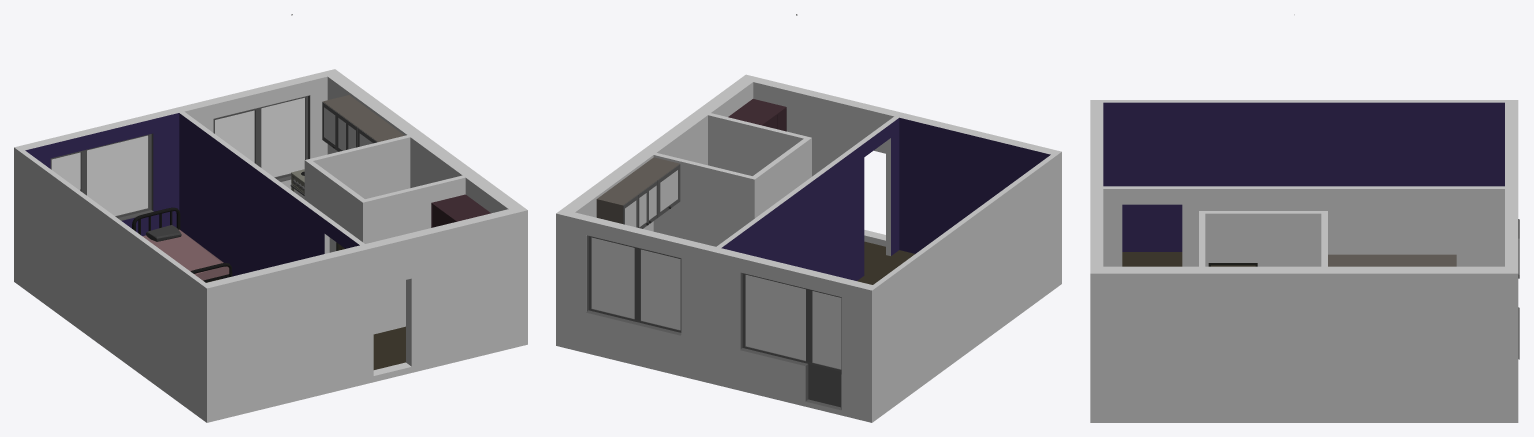
The model's file is dom (2).fbx.
The picture shows the model from 3 angles, left to right: view 1: azimuth 30°, elevation 25°; view 2: azimuth 150°, elevation 25°; view 3: azimuth 270°, elevation 25°; orthographic projection. The views are drawn at different scales.
Visible parts, largest first — view 1: Cube, Plane, Plane.007, pilow.002, Cube.025, Plane.001, Cube.002, pilow, Plane.005, Cube.032; view 2: Cube, Plane, Plane.007, Plane.001, Plane.005, Cube.025, Cube.002, Cube.030; view 3: Cube, Cube.025.
Boxes of the visible parts, box(x1,y1,x2,y2) form: Cube: box(14, 69, 527, 422); Plane: box(213, 95, 309, 181); Plane.007: box(87, 135, 148, 215); pilow.002: box(143, 229, 229, 280); Cube.025: box(322, 95, 404, 141); Plane.001: box(50, 133, 153, 220); Cube.002: box(431, 194, 490, 227); pilow: box(132, 207, 232, 282); Plane.005: box(51, 152, 80, 190); Cube.032: box(322, 102, 337, 150); Cube: box(556, 74, 1061, 422); Plane: box(586, 235, 681, 335); Plane.007: box(745, 274, 805, 360); Plane.001: box(740, 272, 841, 410); Plane.005: box(812, 291, 841, 369); Cube.025: box(596, 157, 679, 223); Cube.002: box(728, 99, 786, 131); Cube.030: box(657, 164, 680, 217); Cube: box(1090, 100, 1518, 422); Cube.025: box(1328, 254, 1456, 266).
Size of the model in its own units: 625 by 556 by 652.
